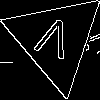V: (30, 15, 75, 69)
